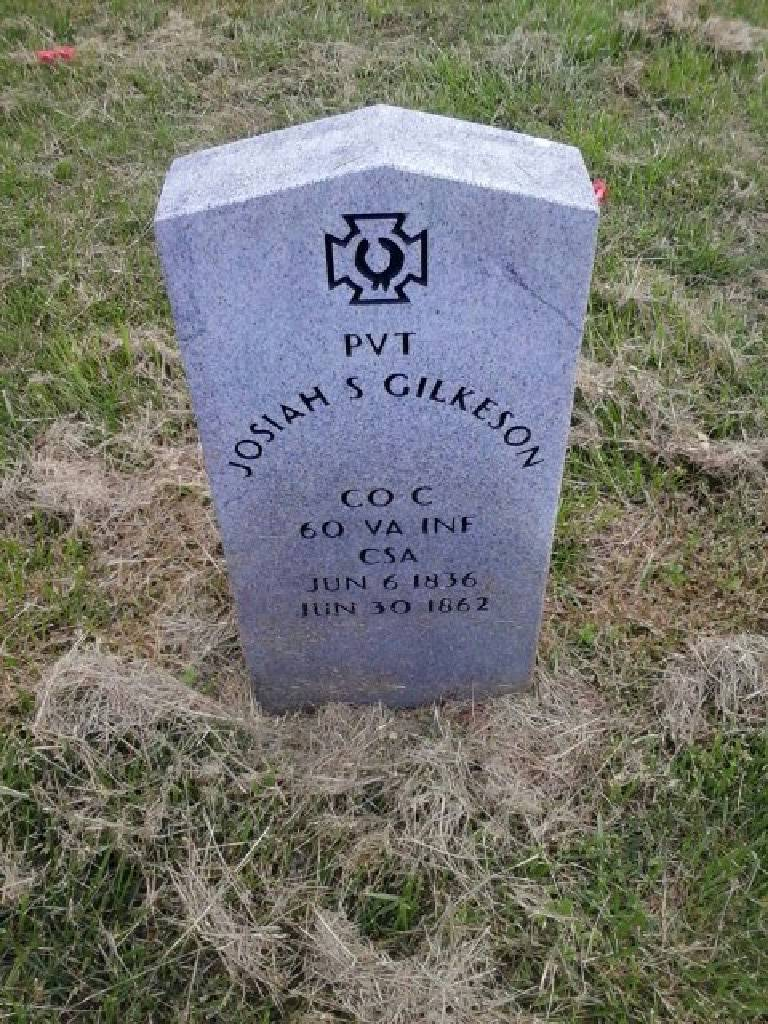military: (166, 104, 598, 706)
